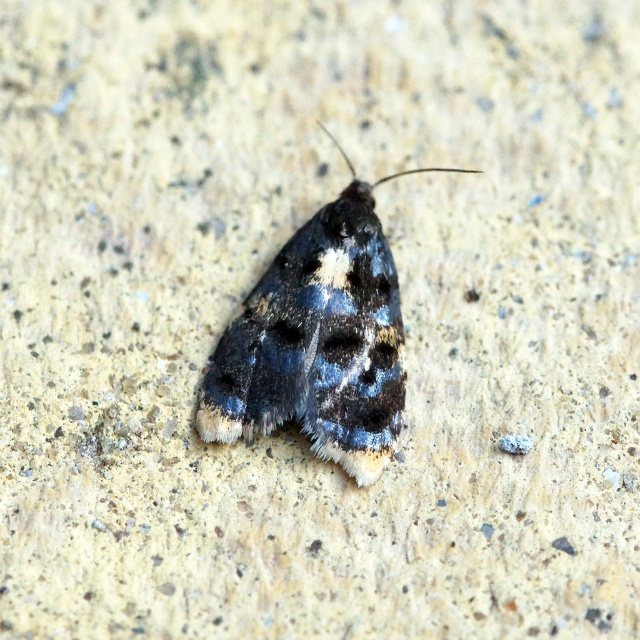Butterfly: (183, 105, 494, 489)
